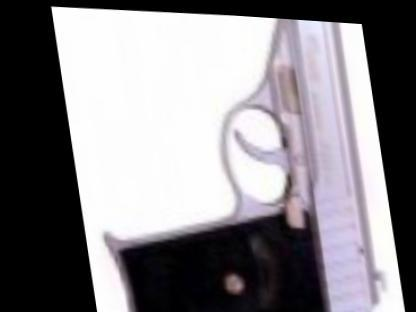pistol: (62, 3, 385, 311)
